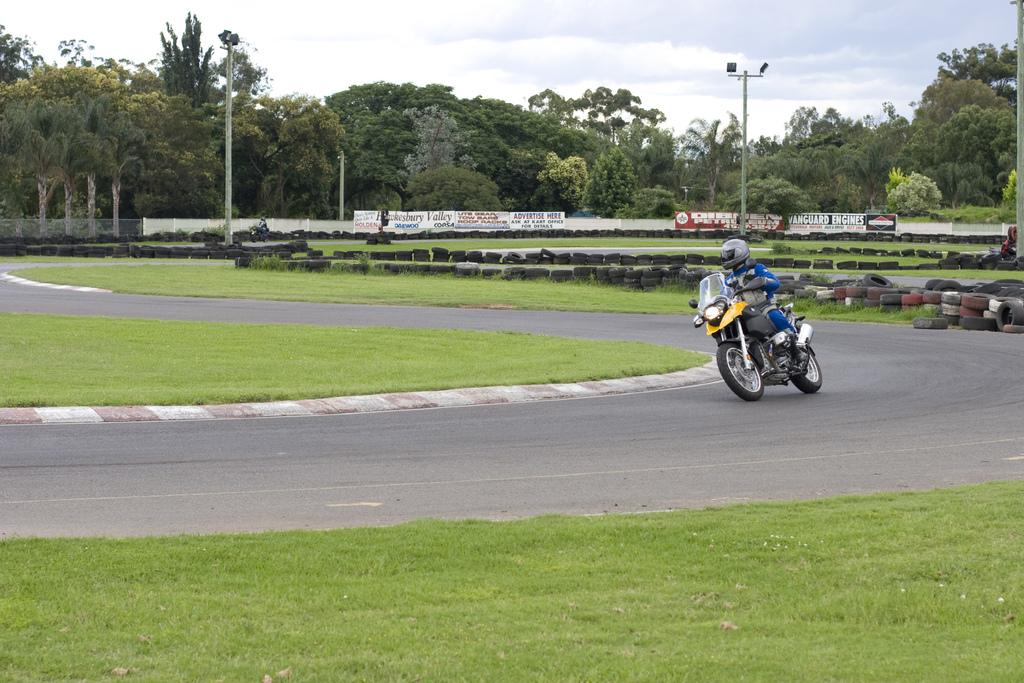helmet: (720, 238, 750, 270)
